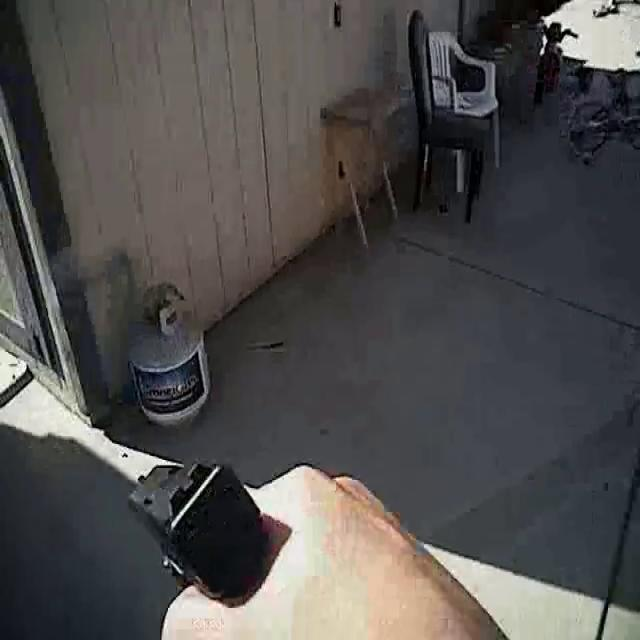gun: (91, 418, 301, 621)
